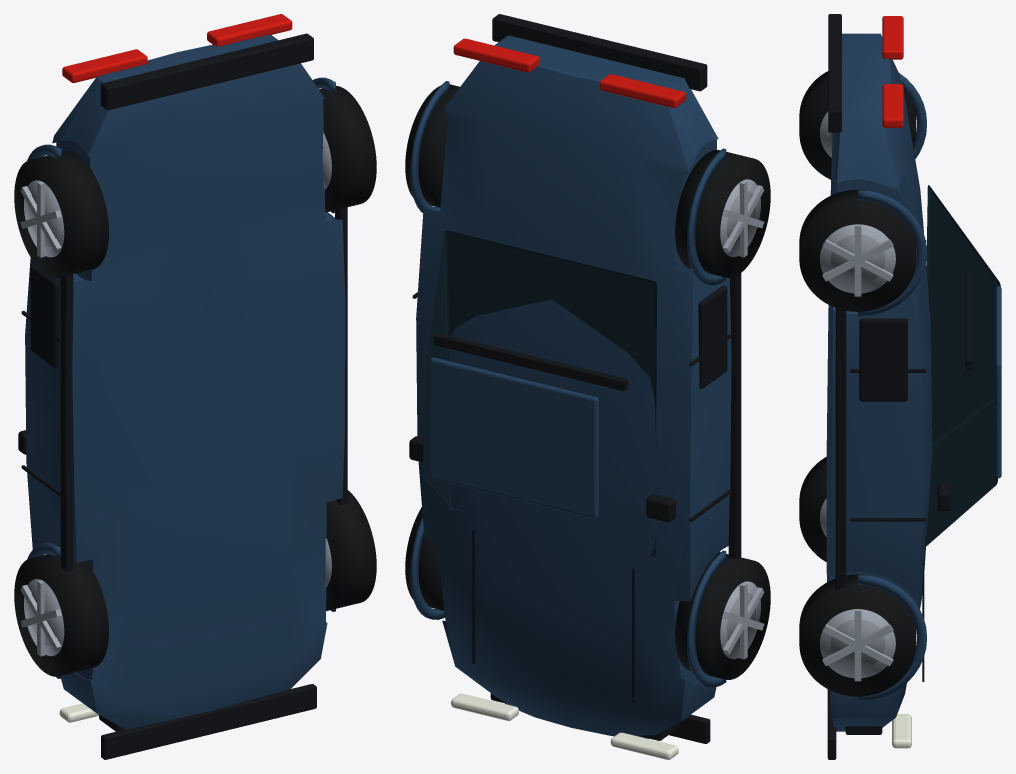
The model's file is MarshNsx.fbx.
3 views of the same model, side by side, from view 1: azimuth 30°, elevation 25°; view 2: azimuth 150°, elevation 25°; view 3: azimuth 270°, elevation 25° (orthographic). The views are drawn at different scales.
Parts seen in each view (by area): view 1: Marsh_BODY_SHELL, Marsh_TIRE.001, Marsh_TIRE, Marsh_REAR_DIFFUSER, Marsh_FRONT_SPLITTER, Marsh_TIRE.003, Marsh_TIRE.002, Marsh_SIDE_SILL, Marsh_SIDE_INTAKE, Marsh_TAIL_LAMP, Marsh_TAIL_LAMP.001, Marsh_SIDE_SILL.001 (+2 smaller); view 2: Marsh_BODY_SHELL, Marsh_ROOF_PANEL, Marsh_GLASSHOUSE, Marsh_TIRE.001, Marsh_TIRE, Marsh_REAR_DIFFUSER, Marsh_SIDE_SILL, Marsh_TIRE.003, Marsh_B_PILLAR, Marsh_SIDE_INTAKE, Marsh_TIRE.002, Marsh_TAIL_LAMP (+11 smaller); view 3: Marsh_BODY_SHELL, Marsh_GLASSHOUSE, Marsh_TIRE.003, Marsh_TIRE.002, Marsh_SIDE_INTAKE.001, Marsh_SIDE_SILL.001, Marsh_TIRE.001, Marsh_TIRE, Marsh_WHEEL_ARCH.002, Marsh_WHEEL_ARCH.003, Marsh_REAR_DIFFUSER, Marsh_RIM.002 (+12 smaller).
Part boxes in pixels (<box>): Marsh_BODY_SHELL: <box>25,35,345,729</box>; Marsh_TIRE.001: <box>14,151,108,277</box>; Marsh_TIRE: <box>14,554,108,676</box>; Marsh_REAR_DIFFUSER: <box>100,33,313,110</box>; Marsh_FRONT_SPLITTER: <box>101,684,316,759</box>; Marsh_TIRE.003: <box>319,86,376,212</box>; Marsh_TIRE.002: <box>326,490,376,610</box>; Marsh_SIDE_SILL: <box>60,274,73,572</box>; Marsh_SIDE_INTAKE: <box>30,265,58,368</box>; Marsh_TAIL_LAMP: <box>62,49,147,82</box>; Marsh_TAIL_LAMP.001: <box>207,14,292,46</box>; Marsh_SIDE_SILL.001: <box>335,207,347,505</box>; Marsh_BODY_SHELL: <box>416,35,731,738</box>; Marsh_ROOF_PANEL: <box>430,357,598,518</box>; Marsh_GLASSHOUSE: <box>422,230,656,557</box>; Marsh_TIRE.001: <box>675,150,770,277</box>; Marsh_TIRE: <box>675,552,770,679</box>; Marsh_REAR_DIFFUSER: <box>492,14,707,91</box>; Marsh_SIDE_SILL: <box>728,273,741,558</box>; Marsh_TIRE.003: <box>405,84,459,207</box>; Marsh_B_PILLAR: <box>433,332,627,391</box>; Marsh_SIDE_INTAKE: <box>698,285,727,388</box>; Marsh_TIRE.002: <box>405,507,444,610</box>; Marsh_TAIL_LAMP: <box>599,74,685,108</box>; Marsh_BODY_SHELL: <box>826,33,932,731</box>; Marsh_GLASSHOUSE: <box>923,185,1000,547</box>; Marsh_TIRE.003: <box>799,189,916,311</box>; Marsh_TIRE.002: <box>799,574,916,696</box>; Marsh_SIDE_INTAKE.001: <box>859,318,907,401</box>; Marsh_SIDE_SILL.001: <box>835,308,846,589</box>; Marsh_TIRE.001: <box>799,71,916,179</box>; Marsh_TIRE: <box>799,457,826,561</box>; Marsh_WHEEL_ARCH.002: <box>858,574,926,701</box>; Marsh_WHEEL_ARCH.003: <box>858,189,926,316</box>; Marsh_REAR_DIFFUSER: <box>828,14,841,132</box>; Marsh_RIM.002: <box>820,609,895,678</box>.
Bounding box in the file's own units: 229 × 470 × 133.
